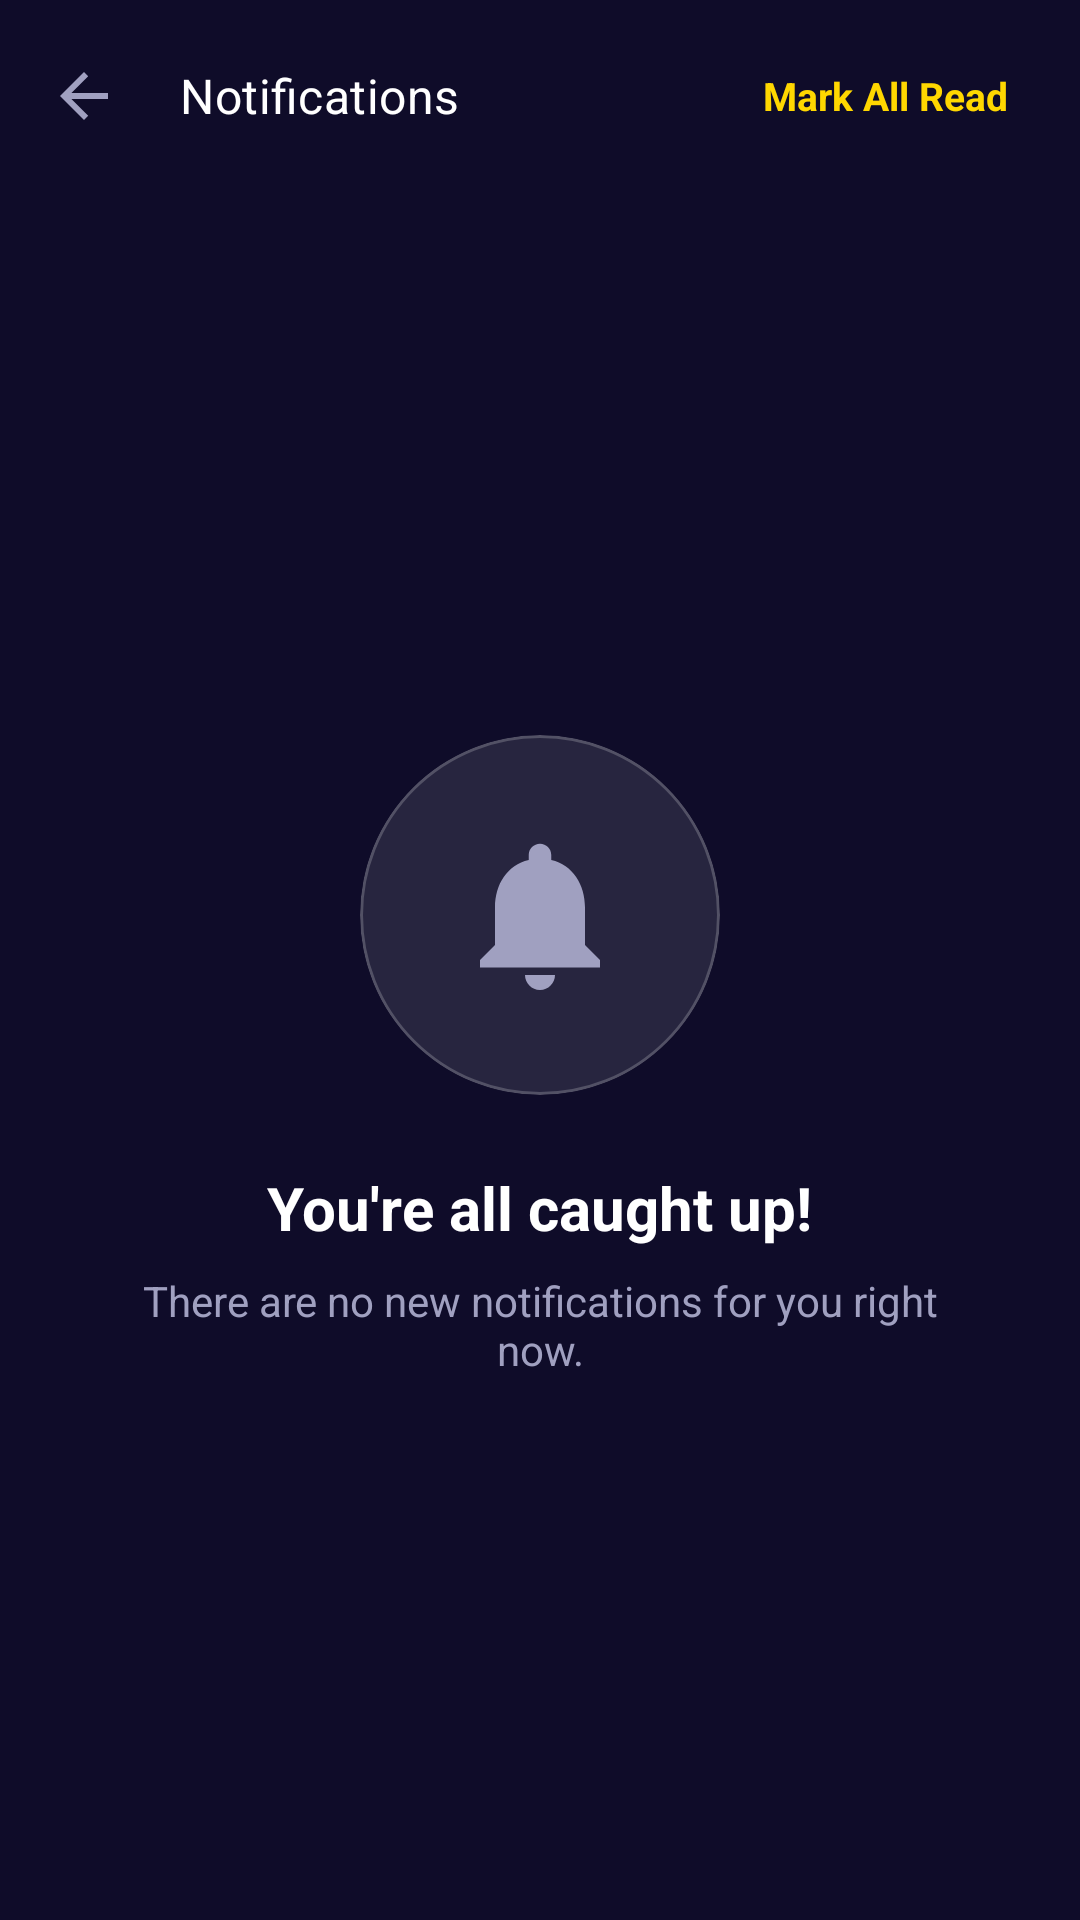

Named icons in this screenshot (1080px×1920px) and their bounding boxes, (x1, y1, x2, y2):
notification bell: (480, 843, 600, 990)
